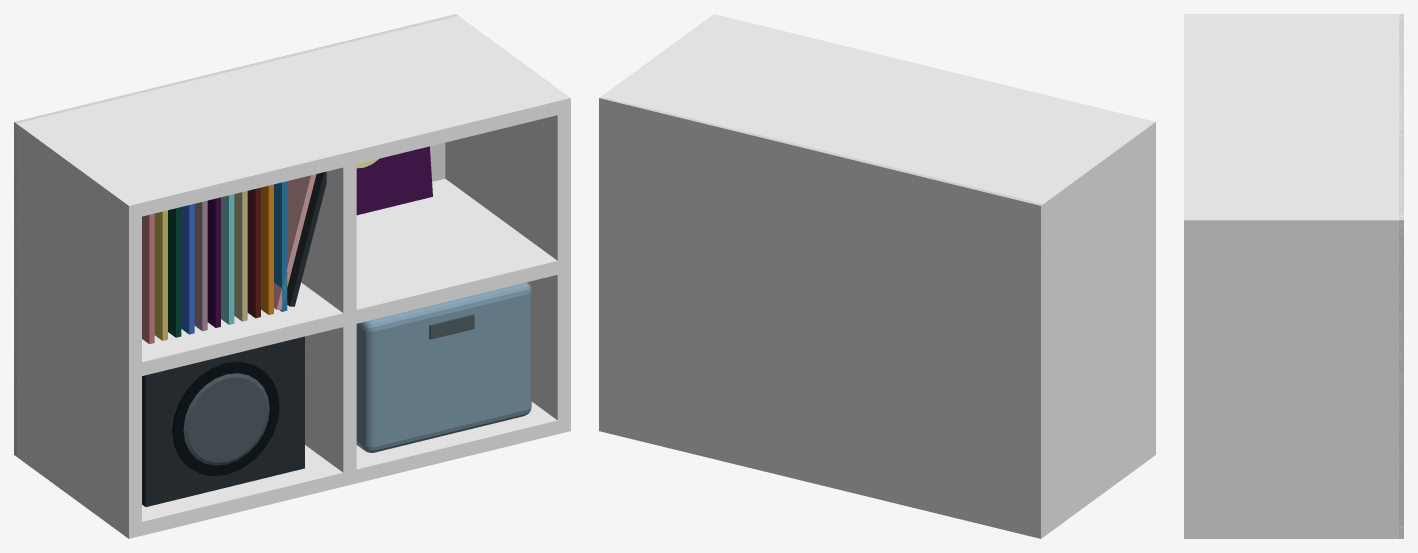
File: djCabinet.glb
3 views of the same model, side by side, from view 1: azimuth 30°, elevation 25°; view 2: azimuth 150°, elevation 25°; view 3: azimuth 270°, elevation 25° (orthographic). The views are drawn at different scales.
Parts seen in each view (by area): view 1: #FFFFFF, #83A1B5, #252E33, #505E63, #43104F, #070F14, #E6E7E8, #E7B3B2, #084F3B, #80DDE0, #4078DD, #D6D29F (+6 smaller); view 2: #E6E7E8, #FFFFFF; view 3: #FFFFFF, #E6E7E8.
Part boxes in pixels (x1=…): #FFFFFF: x1=14, y1=14, x2=570, y2=538; #83A1B5: x1=356, y1=282, x2=531, y2=452; #252E33: x1=142, y1=171, x2=326, y2=506; #505E63: x1=183, y1=314, x2=474, y2=465; #43104F: x1=207, y1=146, x2=432, y2=327; #070F14: x1=172, y1=361, x2=279, y2=476; #E6E7E8: x1=14, y1=14, x2=458, y2=456; #E7B3B2: x1=274, y1=174, x2=316, y2=309; #084F3B: x1=168, y1=207, x2=181, y2=337; #80DDE0: x1=221, y1=194, x2=234, y2=324; #4078DD: x1=181, y1=204, x2=194, y2=334; #D6D29F: x1=234, y1=191, x2=247, y2=321; #E6E7E8: x1=599, y1=97, x2=1043, y2=538; #FFFFFF: x1=600, y1=14, x2=1155, y2=538; #FFFFFF: x1=1184, y1=14, x2=1403, y2=538; #E6E7E8: x1=1399, y1=14, x2=1403, y2=538.
Bounding box in the file's own units: 1 × 0.7201 × 0.45.
